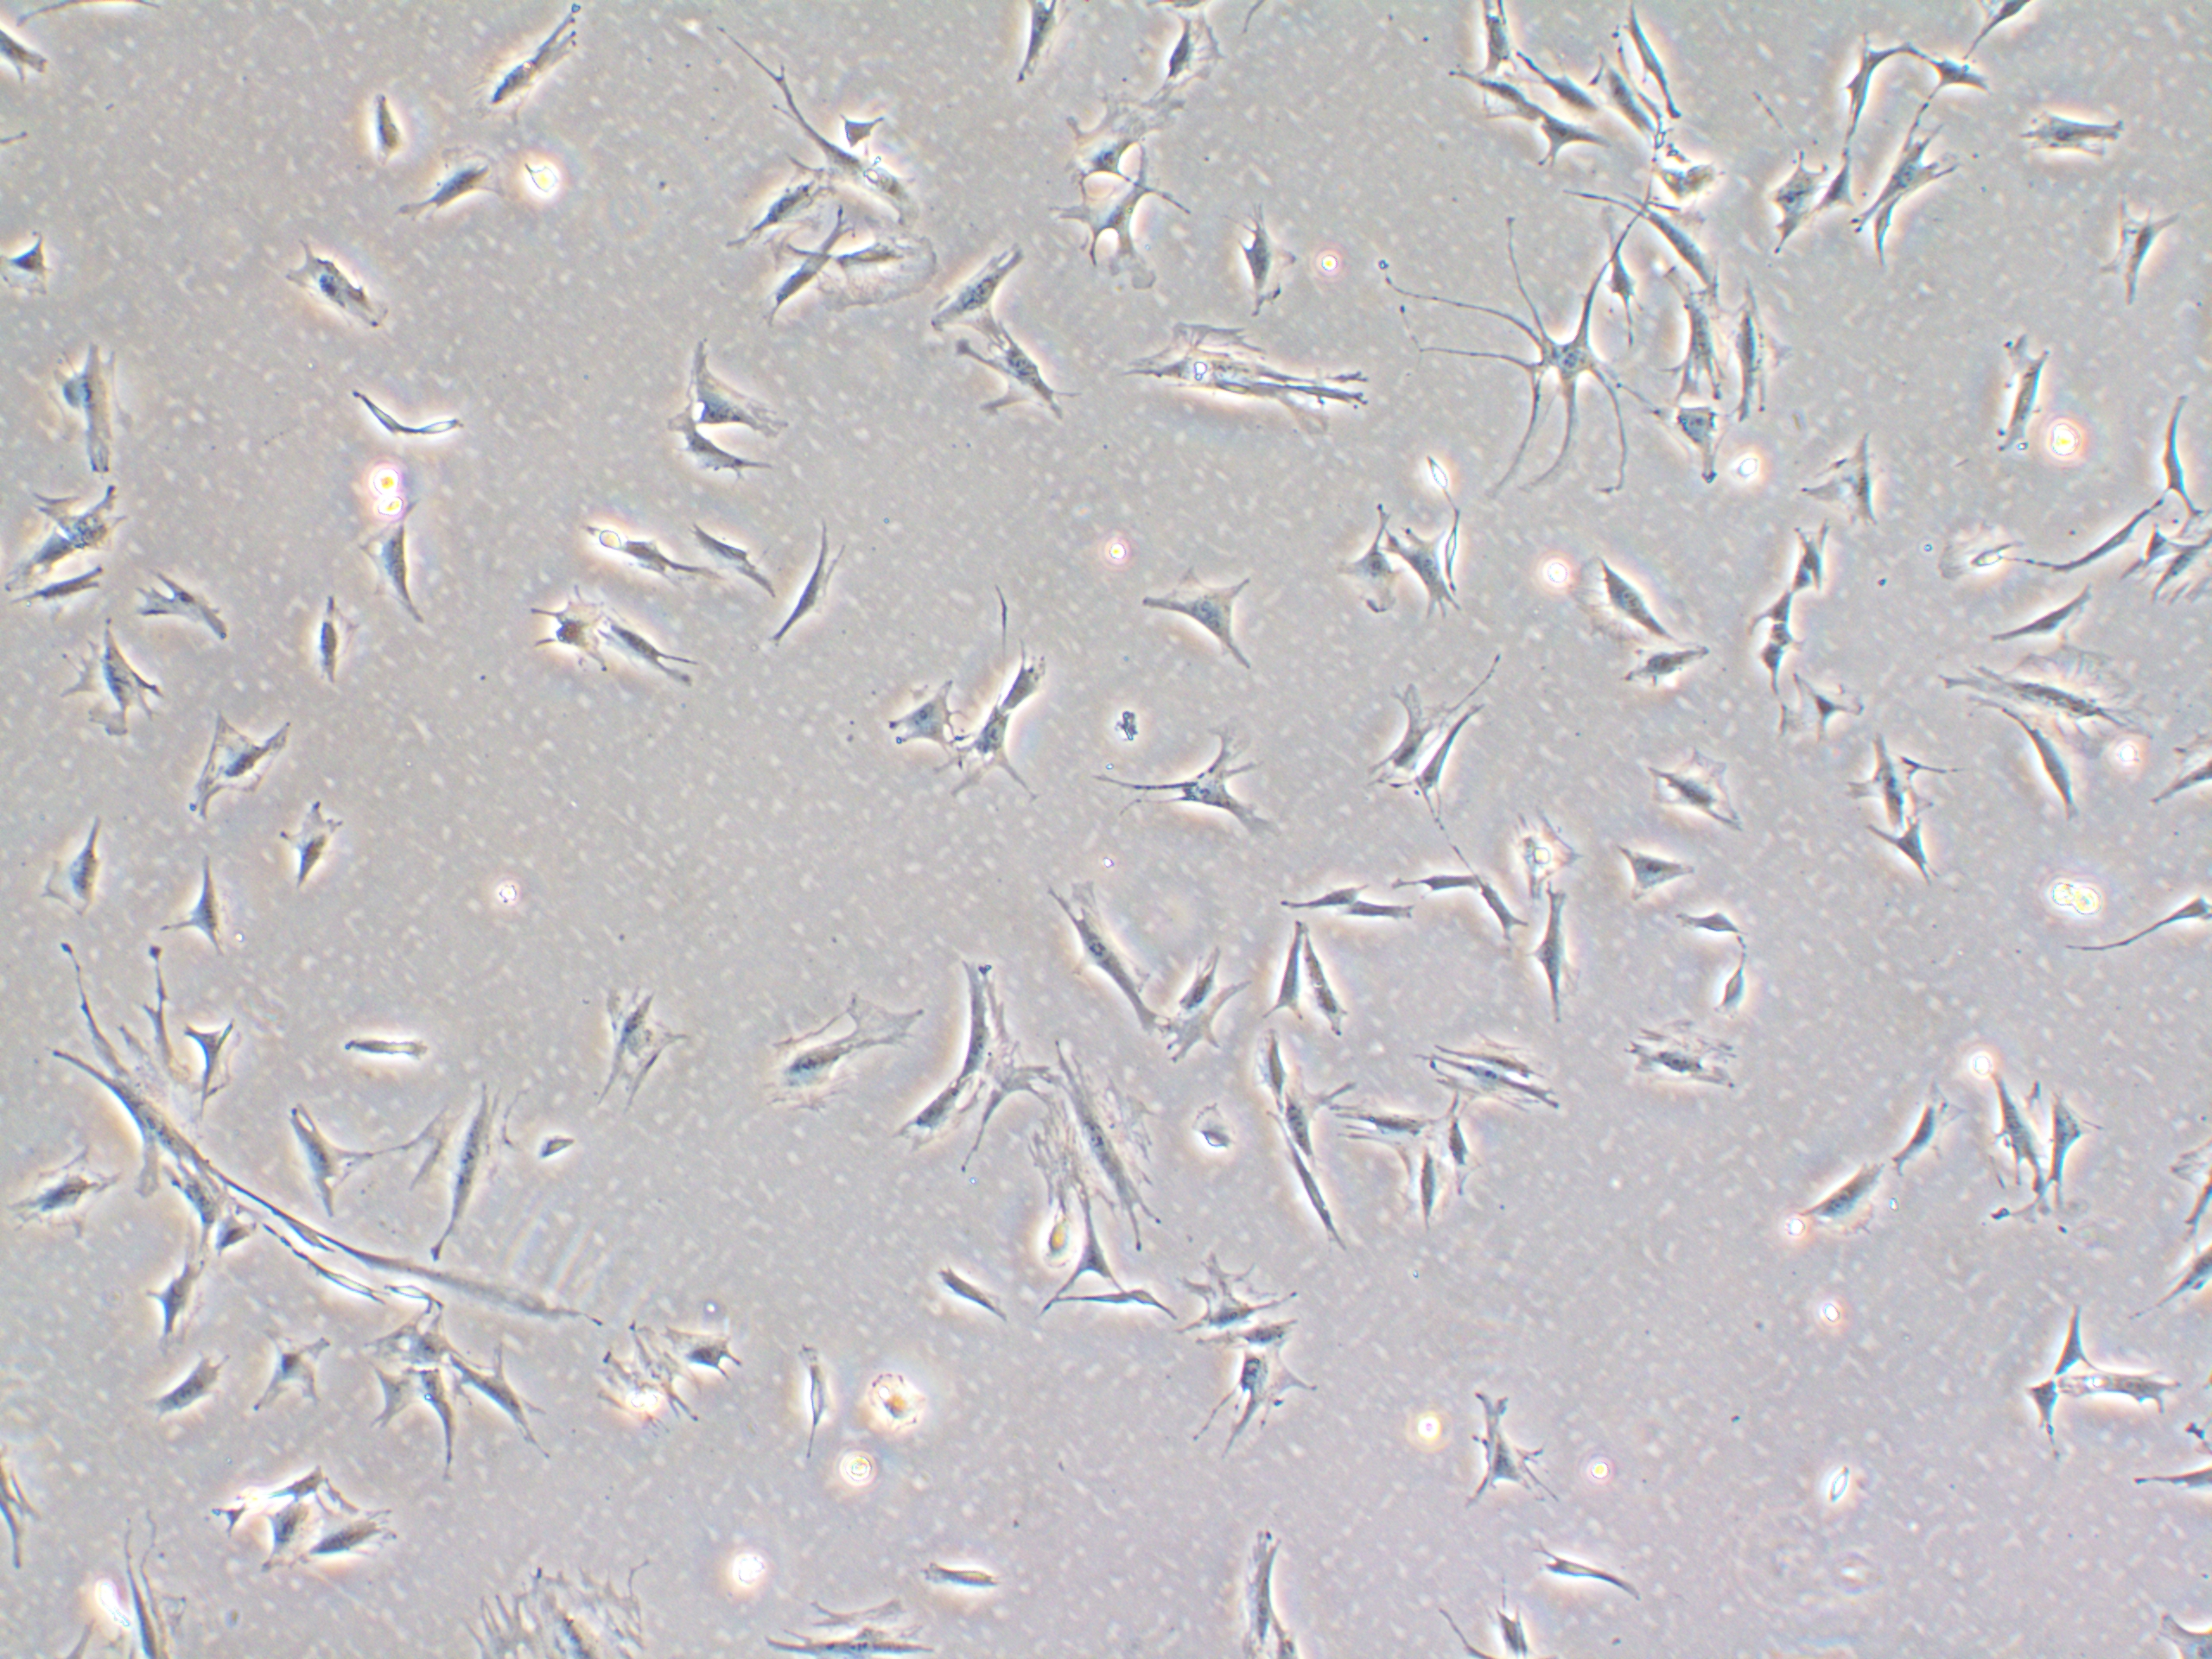Etc: (273, 1237, 392, 1316), (315, 1019, 453, 1072), (334, 376, 416, 451), (411, 401, 484, 450), (1402, 441, 1463, 497), (380, 1272, 444, 1317)
polygonal: (1089, 716, 1310, 857), (404, 1079, 538, 1260), (1040, 159, 1198, 307), (1038, 880, 1170, 1035), (1186, 1321, 1317, 1466), (1844, 115, 1966, 267), (1238, 1105, 1353, 1265), (33, 342, 157, 490), (1541, 521, 1683, 648), (171, 697, 303, 828), (1007, 94, 1176, 195), (585, 971, 693, 1126), (272, 220, 406, 340), (859, 624, 960, 781), (1578, 183, 1726, 288), (747, 521, 860, 657), (1137, 549, 1252, 681), (1454, 1373, 1554, 1518), (721, 155, 850, 263), (937, 335, 1078, 432), (1979, 310, 2054, 490), (594, 606, 712, 720), (64, 619, 172, 742), (745, 1021, 866, 1129), (685, 331, 796, 446), (444, 1349, 554, 1466), (1299, 509, 1406, 629), (284, 1098, 387, 1222), (1639, 741, 1764, 840), (925, 235, 1043, 340), (1721, 279, 1806, 422), (19, 809, 122, 927), (1803, 415, 1902, 537), (402, 125, 507, 240), (124, 1239, 225, 1358), (1383, 504, 1477, 631), (651, 399, 773, 497), (1165, 1243, 1285, 1340), (348, 502, 430, 645), (1407, 688, 1494, 821), (129, 558, 249, 653), (1521, 887, 1595, 1040), (1209, 200, 1308, 315), (1665, 265, 1740, 416), (1780, 1157, 1892, 1255), (878, 1077, 991, 1171), (779, 1324, 848, 1474), (233, 1324, 338, 1422), (127, 1345, 233, 1439), (951, 706, 1049, 807), (2101, 192, 2175, 322), (1848, 723, 1935, 835), (2012, 87, 2146, 157), (1372, 671, 1453, 786), (1231, 1513, 1294, 1659), (165, 854, 247, 965), (942, 941, 1007, 1082), (1432, 61, 1550, 138), (1984, 582, 2109, 653), (989, 0, 1094, 85), (237, 1497, 327, 1595), (340, 70, 420, 179), (1885, 1068, 1959, 1185), (1984, 1063, 2055, 1185), (685, 518, 777, 610), (1862, 821, 1958, 908), (1590, 56, 1676, 153), (1759, 143, 1825, 268), (300, 1500, 395, 1586), (1642, 397, 1731, 488), (272, 796, 354, 894), (37, 481, 153, 549), (1343, 1101, 1472, 1162), (1298, 924, 1357, 1054), (1280, 1063, 1352, 1169), (1143, 12, 1231, 98), (866, 1549, 1012, 1600), (1604, 641, 1712, 709), (981, 641, 1073, 720), (296, 589, 368, 690), (1521, 51, 1615, 127), (920, 1255, 1014, 1330), (406, 1359, 462, 1485), (2054, 1366, 2177, 1422), (0, 556, 101, 624), (1613, 838, 1705, 911), (658, 1314, 758, 1382), (185, 1016, 256, 1107), (2040, 1281, 2099, 1389), (1470, 870, 1538, 960), (0, 223, 71, 308), (1437, 1098, 1489, 1211), (345, 1370, 421, 1446), (1254, 918, 1305, 1033), (2041, 1087, 2106, 1173), (1170, 934, 1235, 1016), (1231, 1023, 1294, 1107), (1806, 145, 1869, 225), (1273, 873, 1379, 918), (1331, 901, 1423, 951), (1536, 108, 1608, 171), (1407, 1150, 1456, 1237), (266, 1445, 336, 1504), (2020, 1370, 2062, 1466), (1386, 857, 1501, 892), (1676, 899, 1754, 948), (1804, 512, 1846, 591), (1742, 586, 1806, 636), (1747, 636, 1789, 704)
small-round: (850, 1349, 946, 1452), (556, 507, 637, 554), (1029, 1208, 1083, 1272), (1726, 450, 1768, 498)
spread: (1026, 1037, 1169, 1260), (51, 993, 211, 1187), (1918, 638, 2156, 763), (467, 1554, 650, 1659), (1606, 1002, 1745, 1134), (1413, 1025, 1569, 1138), (786, 218, 946, 312)
